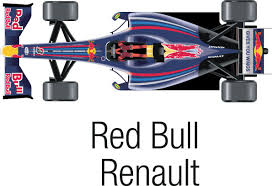FormulaOneCar: (7, 1, 266, 109)
